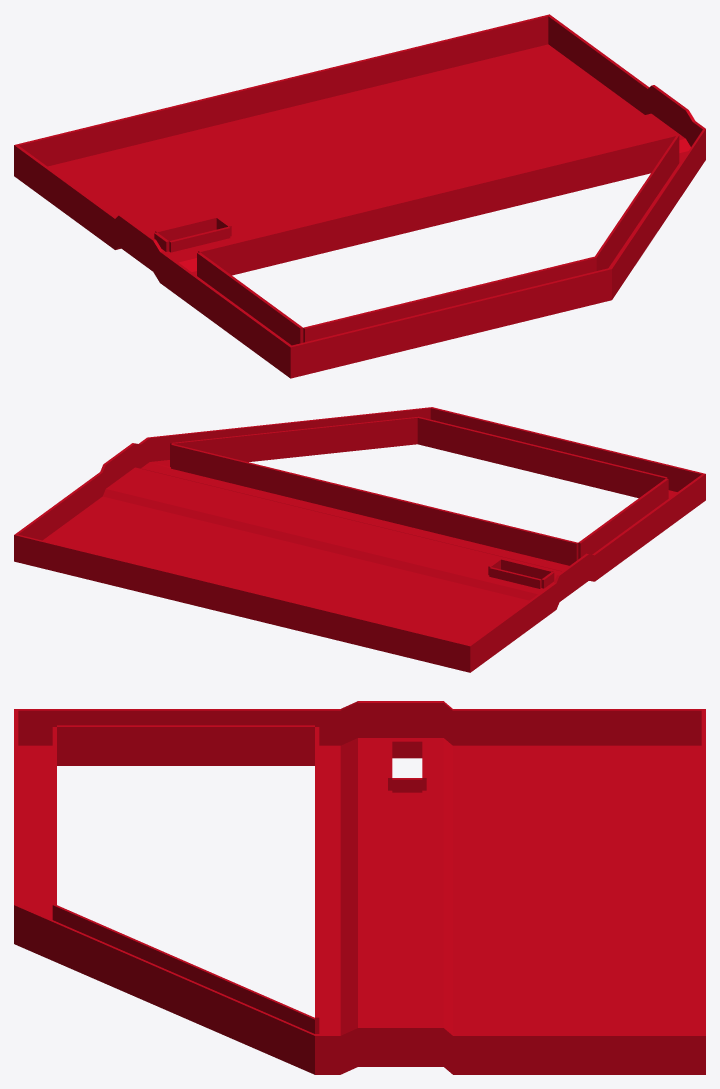
File: wygietaDolna.fbx
The picture shows the model from 3 angles, top to bottom: view 1: azimuth 30°, elevation 25°; view 2: azimuth 150°, elevation 25°; view 3: azimuth 270°, elevation 25°; orthographic projection. The views are drawn at different scales.
Parts seen in each view (by area): view 1: 1wygietadolna; view 2: 1wygietadolna; view 3: 1wygietadolna.
Boxes of the visible parts, x1,y1,x2,y2 form: 1wygietadolna: (14, 14, 705, 378); 1wygietadolna: (14, 407, 705, 672); 1wygietadolna: (14, 701, 705, 1074).
Size of the model in its own units: 1.8 by 0.12 by 1.61.
